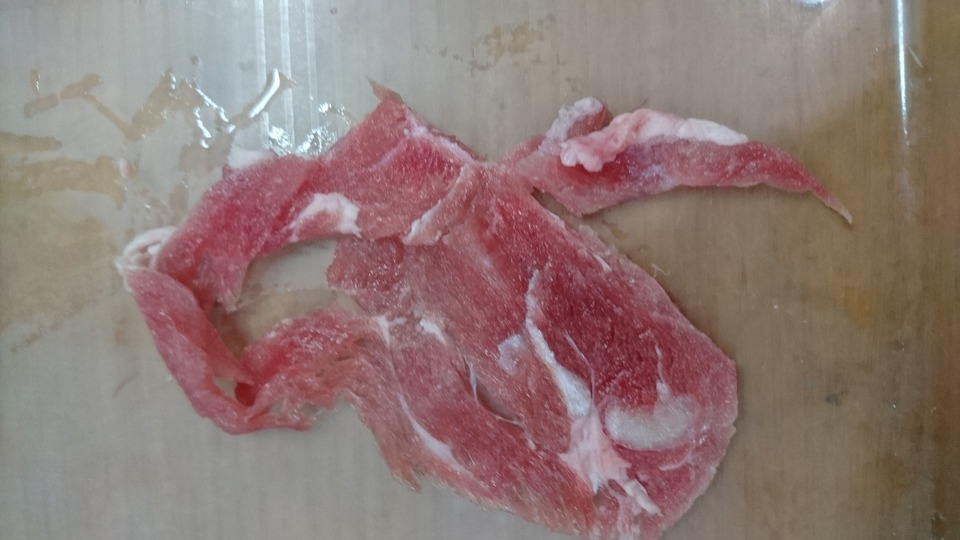restructured meat: (125, 102, 829, 524)
